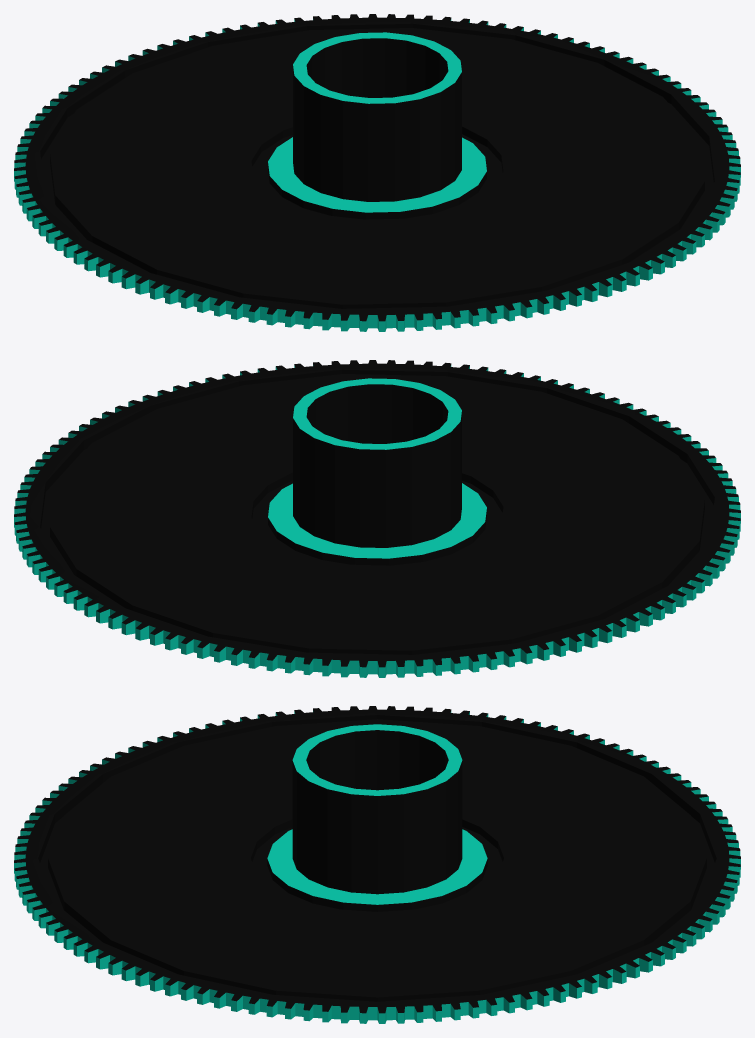
File: D12GearV1.fbx
3 renders of one model, top to bottom at view 1: azimuth 30°, elevation 25°; view 2: azimuth 150°, elevation 25°; view 3: azimuth 270°, elevation 25°, orthographic.
Parts seen in each view (by area): view 1: D12GearV1; view 2: D12GearV1; view 3: D12GearV1.
Part boxes in pixels (x1=…): D12GearV1: x1=14, y1=14, x2=740, y2=331; D12GearV1: x1=14, y1=360, x2=740, y2=677; D12GearV1: x1=14, y1=706, x2=740, y2=1023.
Bounding box in the file's own units: 24.8 × 4.2 × 24.8.
